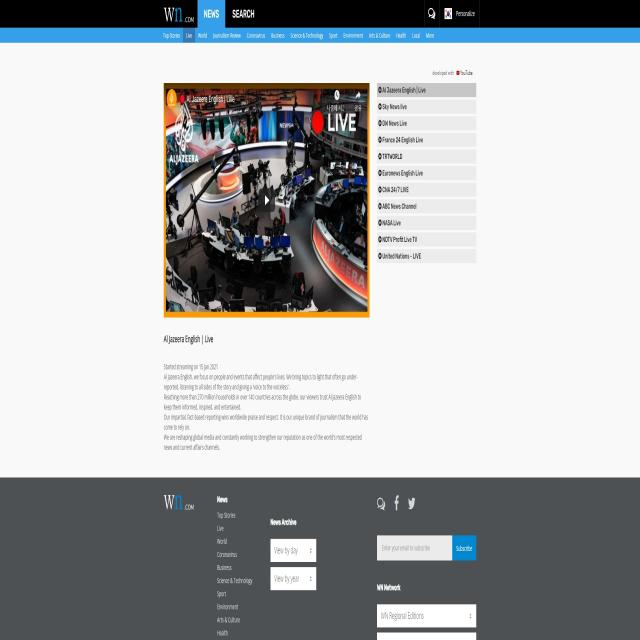content: (157, 331, 366, 464)
menu-bar: (416, 1, 484, 32)
tab-bar: (156, 22, 436, 47)
